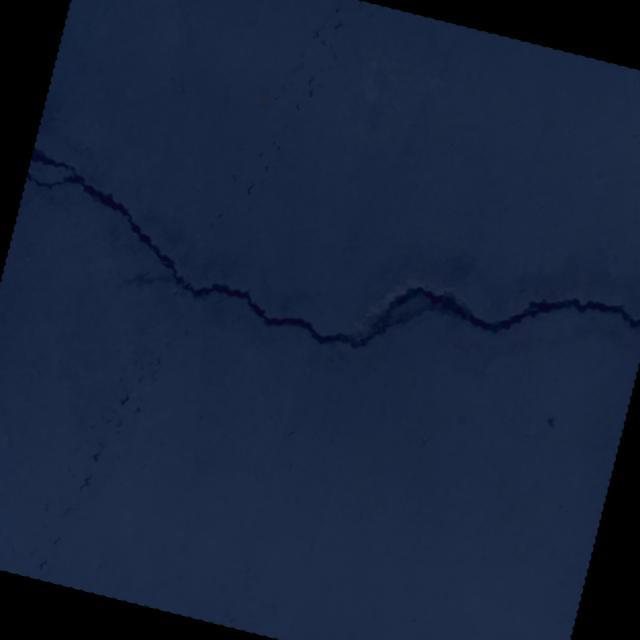crack: (3, 145, 640, 420)
